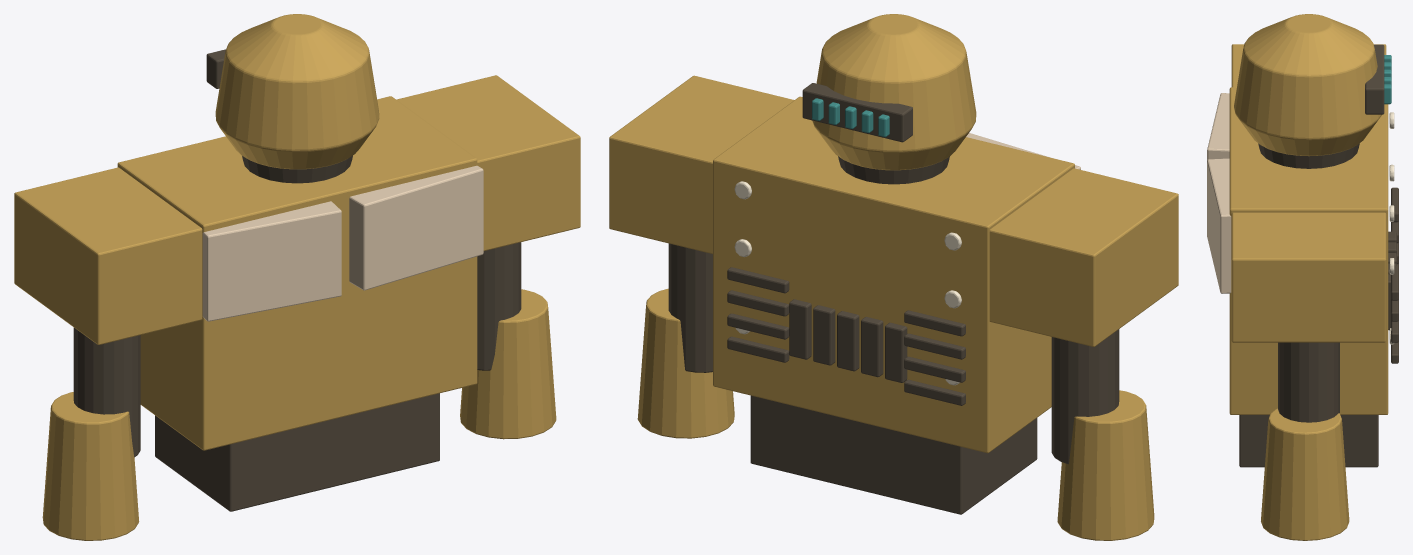
Rendered from warden-body-v1.glb.
3 views of the same model, side by side, from view 1: azimuth 30°, elevation 25°; view 2: azimuth 150°, elevation 25°; view 3: azimuth 270°, elevation 25° (orthographic). The views are drawn at different scales.
Parts seen in each view (by area): view 1: Mission1_warden-body; view 2: Mission1_warden-body; view 3: Mission1_warden-body.
Boxes of the visible parts, box(x1,y1,x2,y2) form: Mission1_warden-body: box(14, 14, 580, 540); Mission1_warden-body: box(609, 14, 1178, 540); Mission1_warden-body: box(1207, 14, 1398, 540).
Size of the model in its own units: 2.74 by 2.32 by 0.9923.
